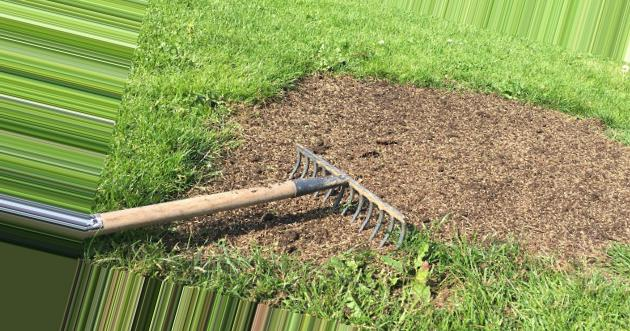patch: (374, 106, 536, 186), (255, 210, 330, 259), (300, 104, 361, 151), (541, 190, 603, 225), (435, 213, 525, 237), (237, 122, 270, 170), (551, 138, 572, 182)
